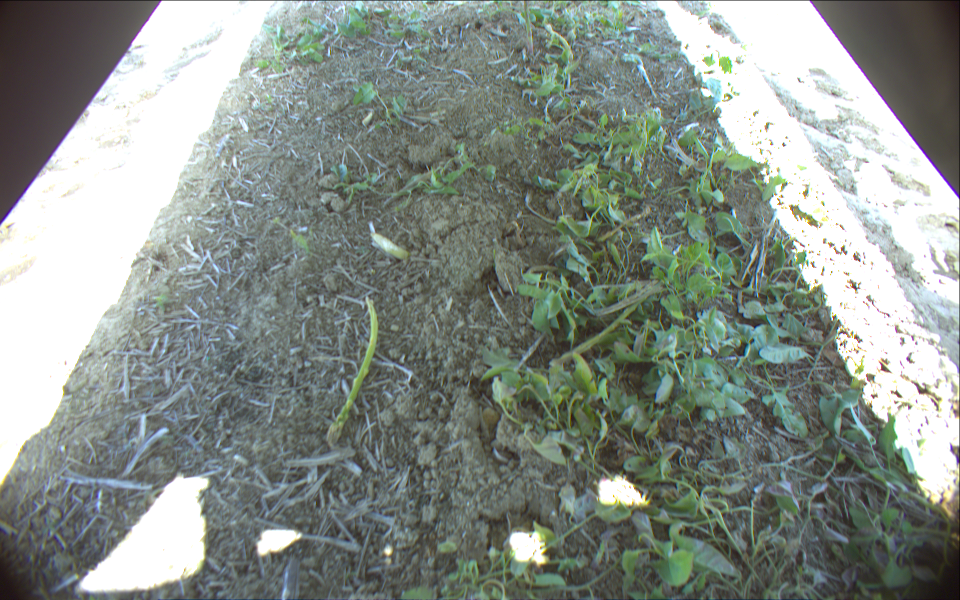aspa: (326, 297, 378, 444), (552, 298, 642, 367), (370, 228, 408, 261), (548, 28, 575, 63), (523, 1, 535, 58)
